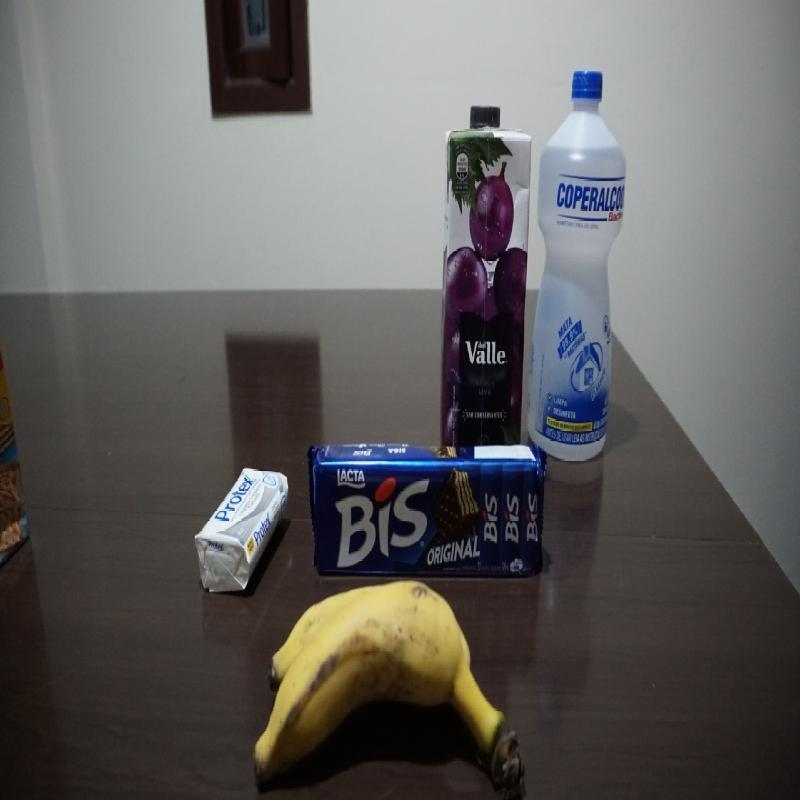Alcohol Bottle: (527, 70, 627, 470)
Banana: (251, 576, 527, 788)
Cracker: (0, 288, 34, 572)
Soap: (192, 464, 291, 594)
